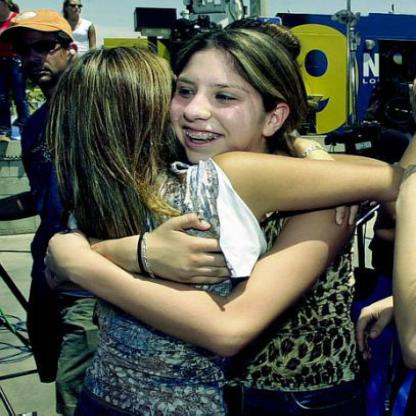face: (171, 32, 273, 172), (17, 14, 70, 89), (69, 1, 84, 20)
